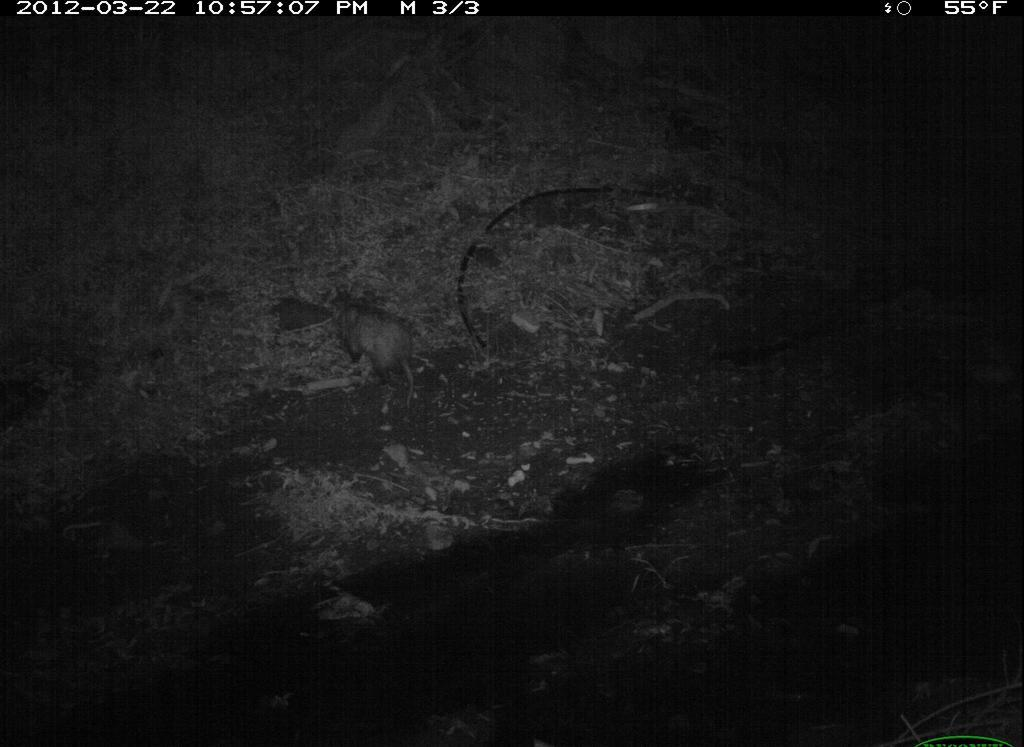opossum: (325, 285, 436, 426)
